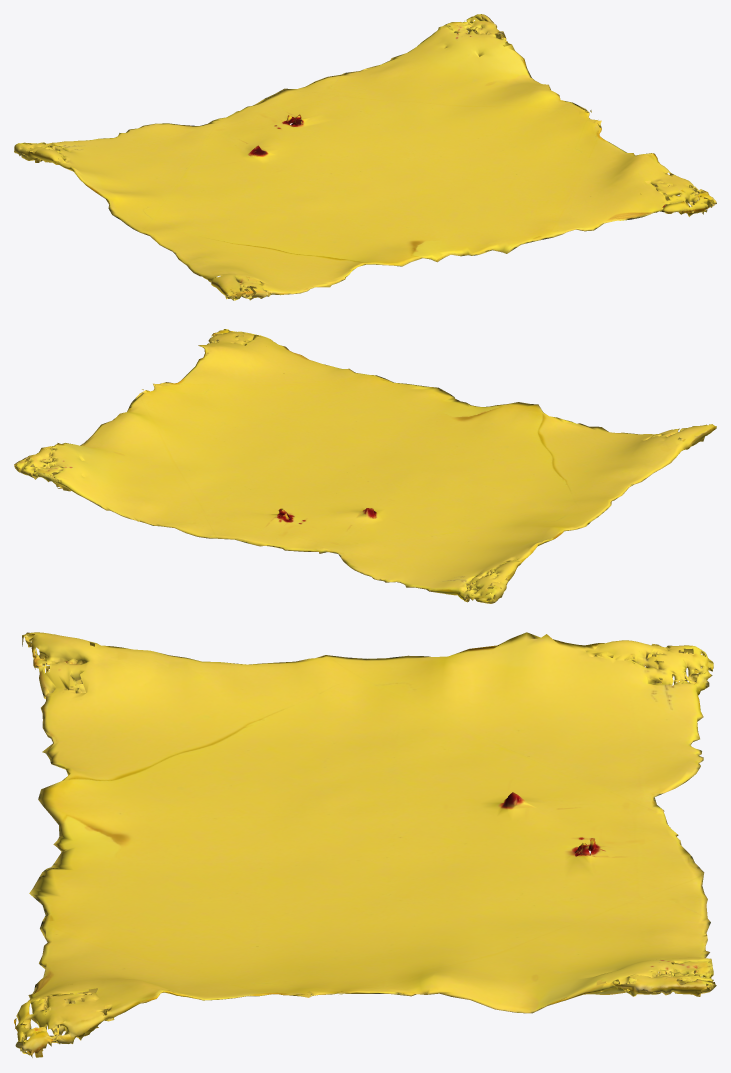
File: Note.fbx
The picture shows the model from 3 angles, top to bottom: view 1: azimuth 30°, elevation 25°; view 2: azimuth 150°, elevation 25°; view 3: azimuth 270°, elevation 25°; orthographic projection. The views are drawn at different scales.
Visible parts, largest first — view 1: Mesh1; view 2: Mesh1; view 3: Mesh1.
Part boxes in pixels (left/top/right/bottom): Mesh1: left=14, top=14, right=716, bottom=300; Mesh1: left=14, top=329, right=716, bottom=603; Mesh1: left=14, top=632, right=716, bottom=1057.
Size of the model in its own units: 200 by 16.81 by 158.
1 material, 1 textured.
